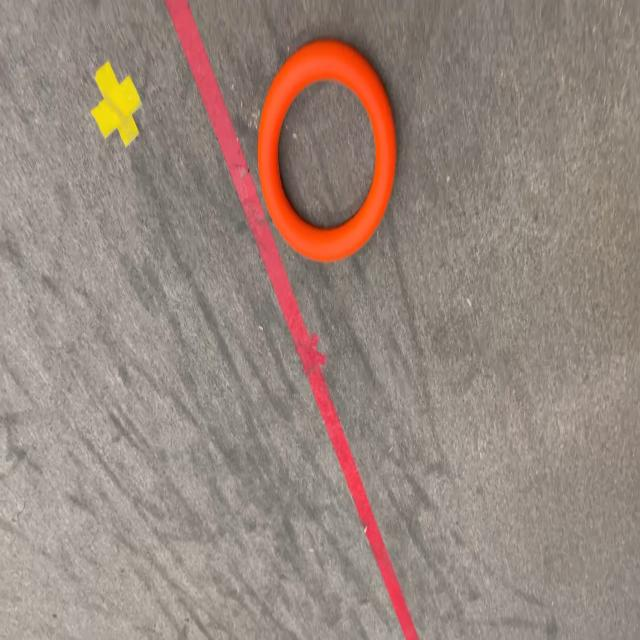note: (258, 41, 397, 262)
